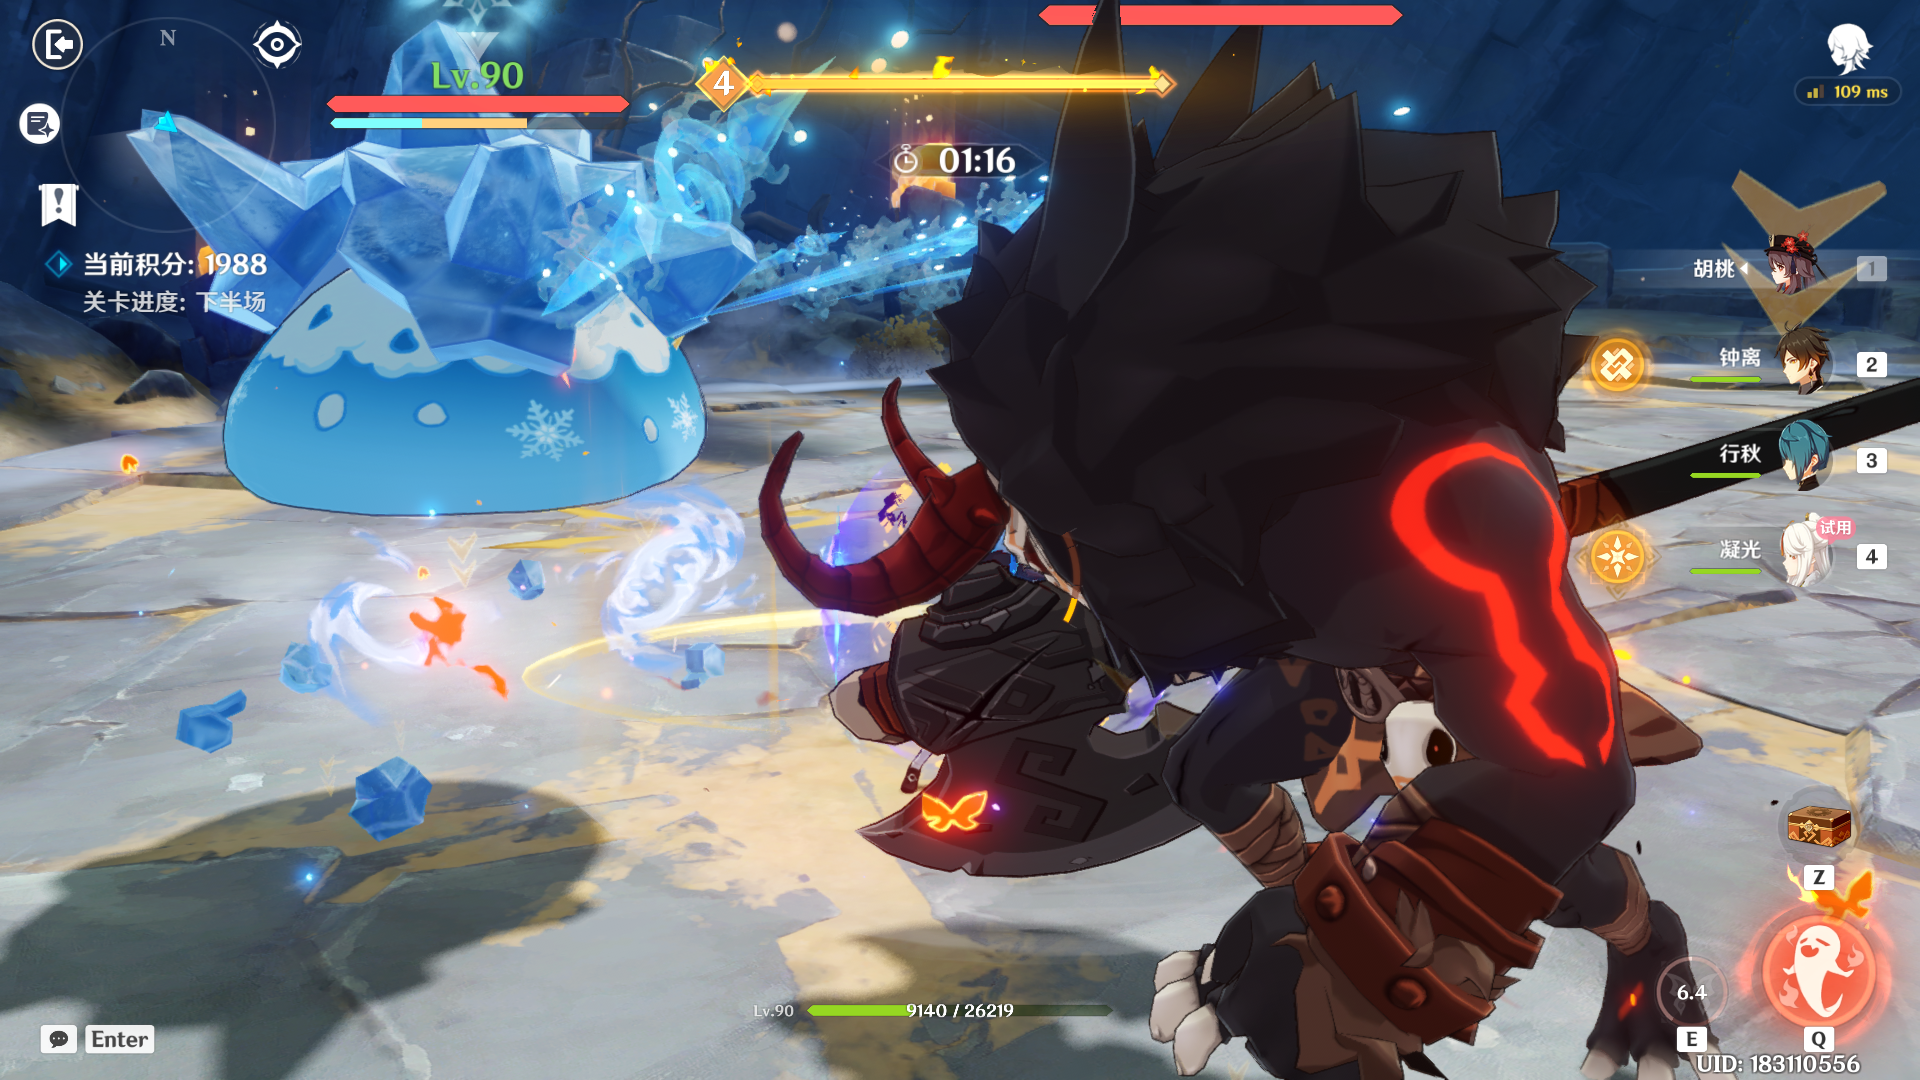bighili: (752, 42, 1783, 1080)
slime: (95, 36, 783, 534)
